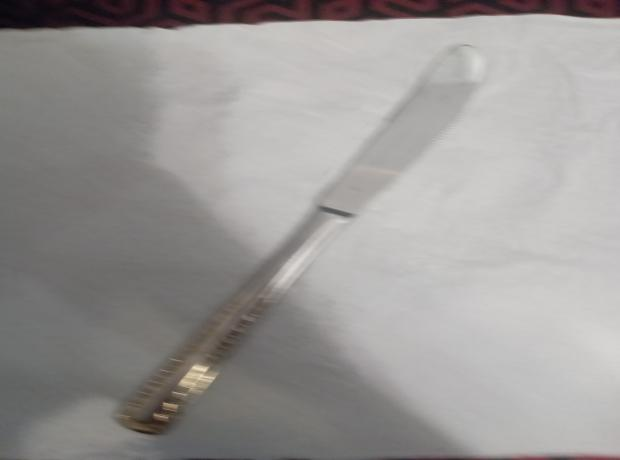metal: (111, 43, 490, 437)
